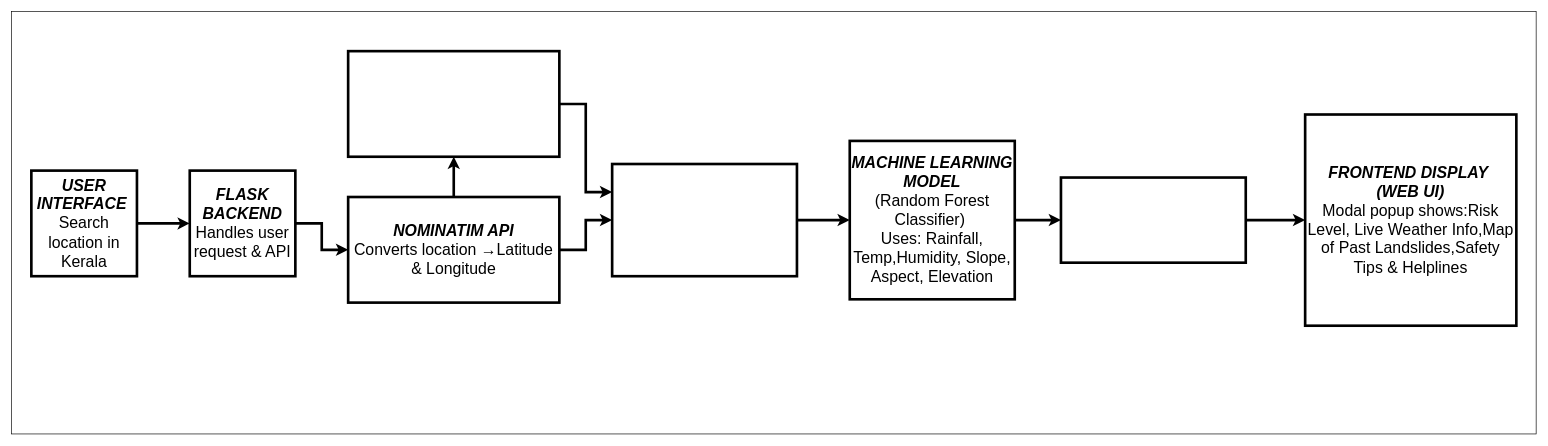
The diagram is 1548 pixels wide and 446 high, and some of its shapes have lost their labels. The box of each missing label's shape, as (x1, y1, x2, y2) in pixels:
EXTRACTED TERRAIN DATASET (Elevation, Slope, Aspect): (610, 162, 798, 277)
RISK PREDICTION RESULT (Safe / Low / Medium / High): (1059, 176, 1247, 264)
WEATHERAPI Fetches Rainfall, Temp,Humidity (real-time): (346, 50, 560, 158)
